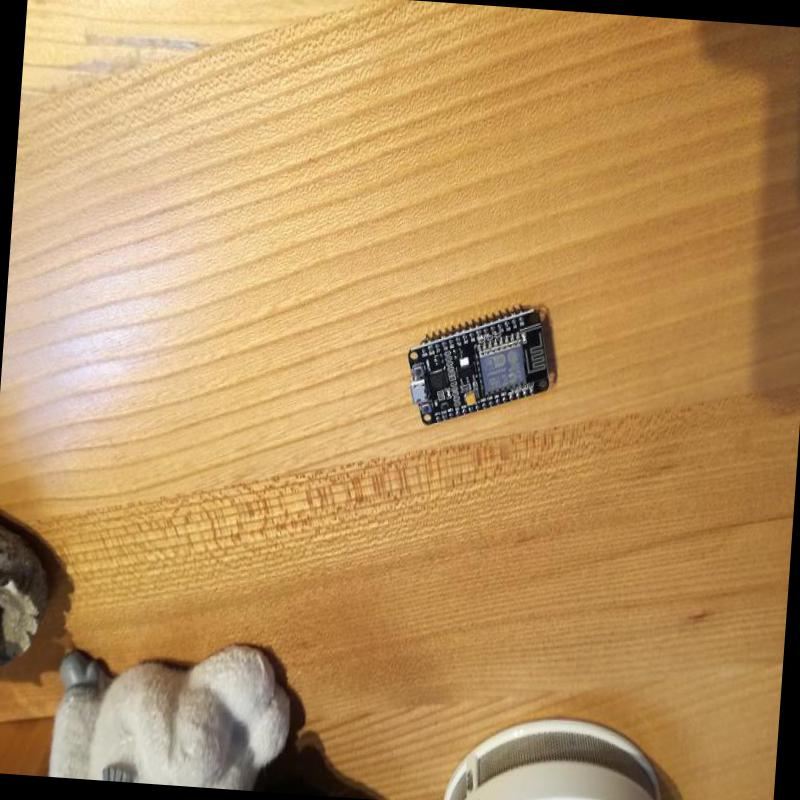ESP8266: (396, 280, 562, 445)
